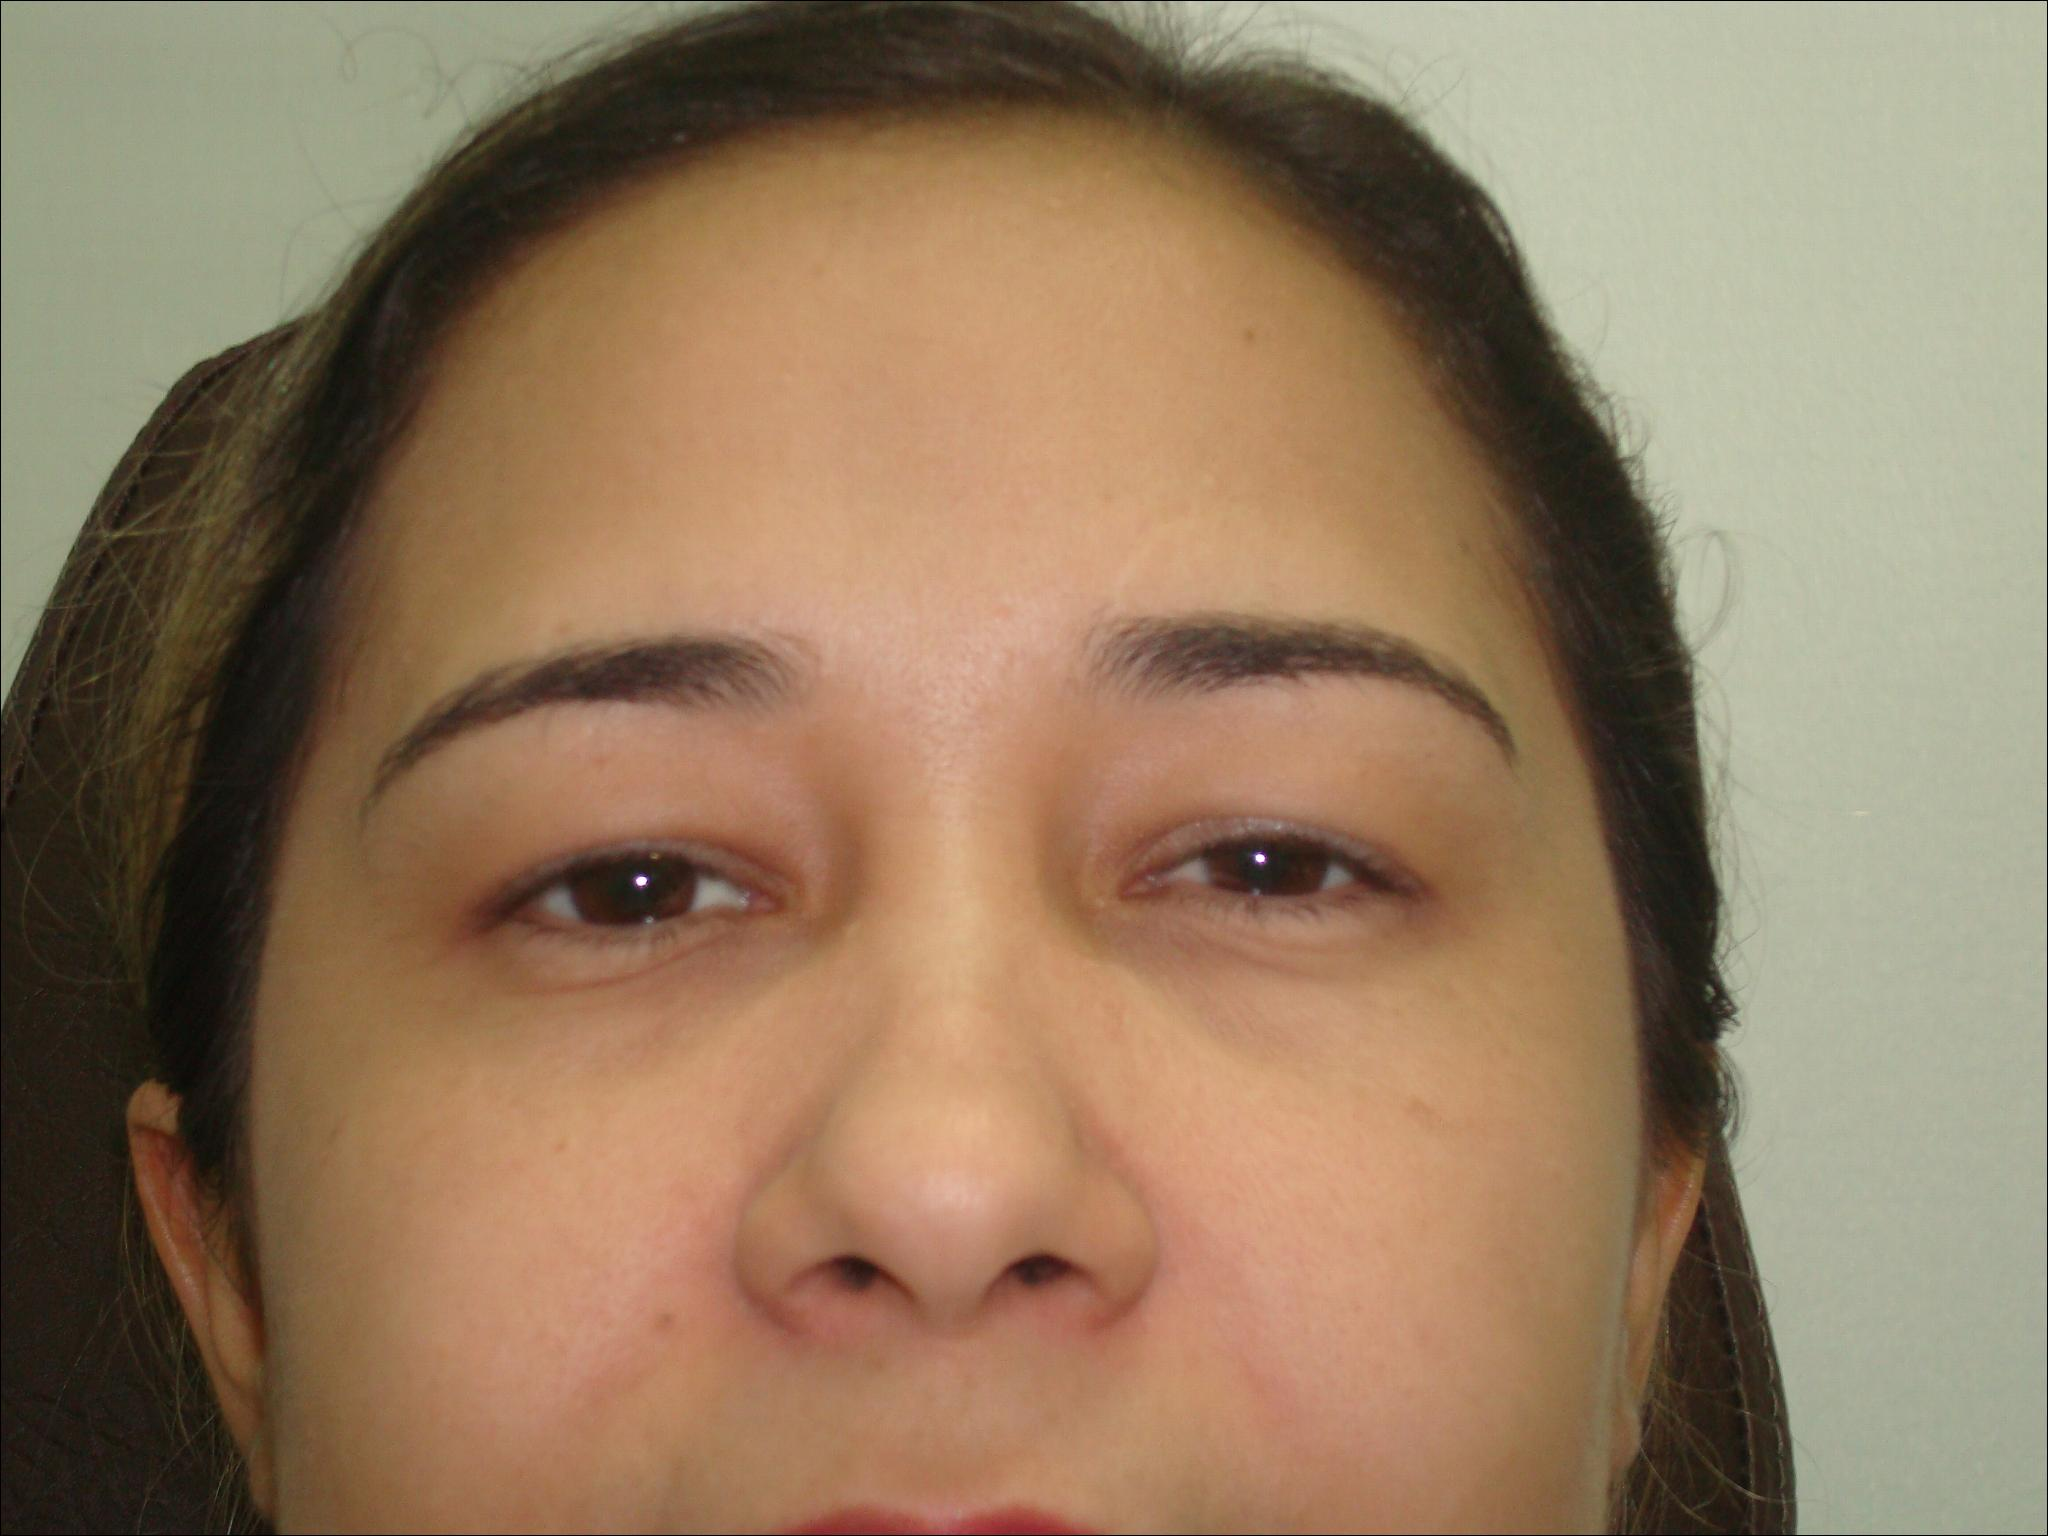flash: (631, 871, 653, 891), (1251, 849, 1271, 868)
limbo: (563, 820, 695, 941), (1193, 802, 1327, 913)
